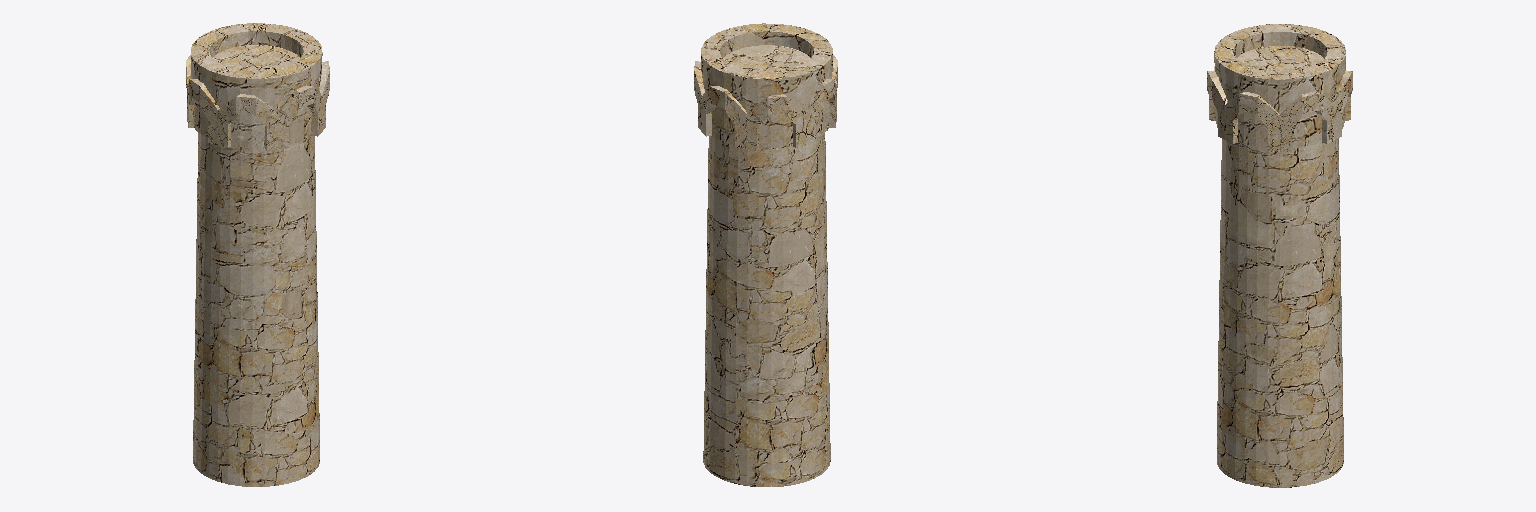
3 views of the same model, side by side, from view 1: azimuth 30°, elevation 25°; view 2: azimuth 150°, elevation 25°; view 3: azimuth 270°, elevation 25° (orthographic).
Parts seen in each view (by area): view 1: TowerTop.008_TowerTopMesh.008; view 2: TowerTop.008_TowerTopMesh.008; view 3: TowerTop.008_TowerTopMesh.008.
Boxes of the visible parts, x1,y1,x2,y2 form: TowerTop.008_TowerTopMesh.008: [186, 23, 329, 486]; TowerTop.008_TowerTopMesh.008: [694, 23, 837, 486]; TowerTop.008_TowerTopMesh.008: [1207, 24, 1352, 487].
Bounding box in the file's own units: 11.01 × 35 × 11.3.
3 materials, 1 textured.